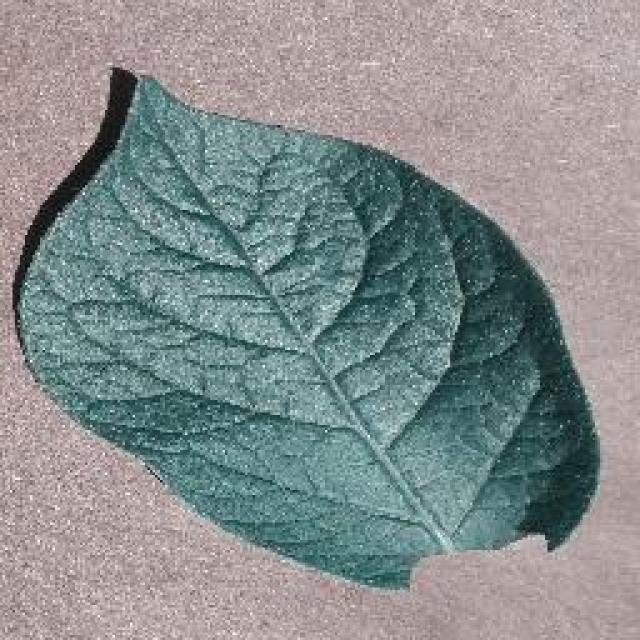Potato___healthy: (14, 70, 604, 592)
